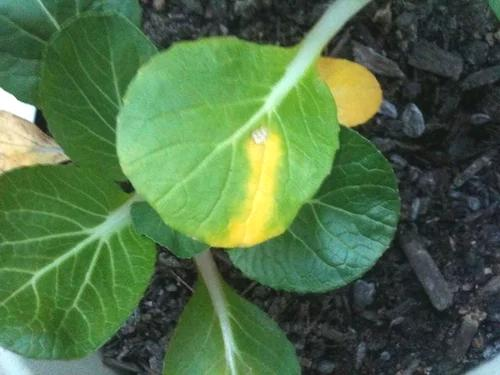Bok-Choy-Diseased: (107, 31, 344, 256)
